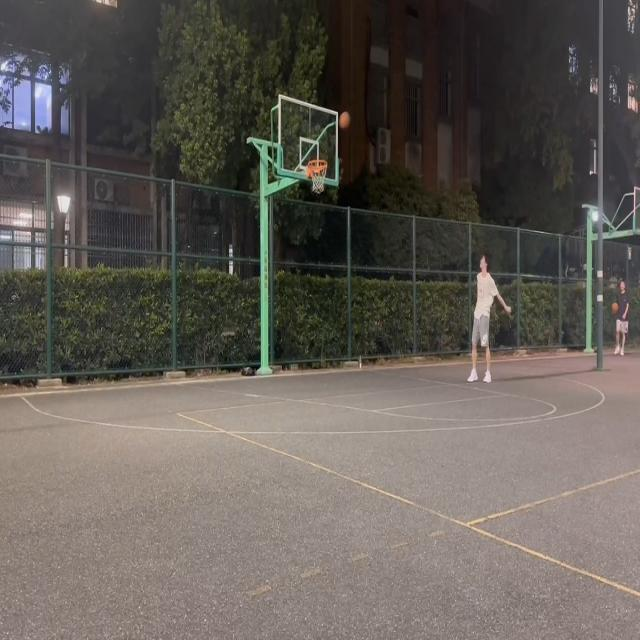basketball: (308, 159, 328, 194)
rim: (340, 111, 351, 129)
